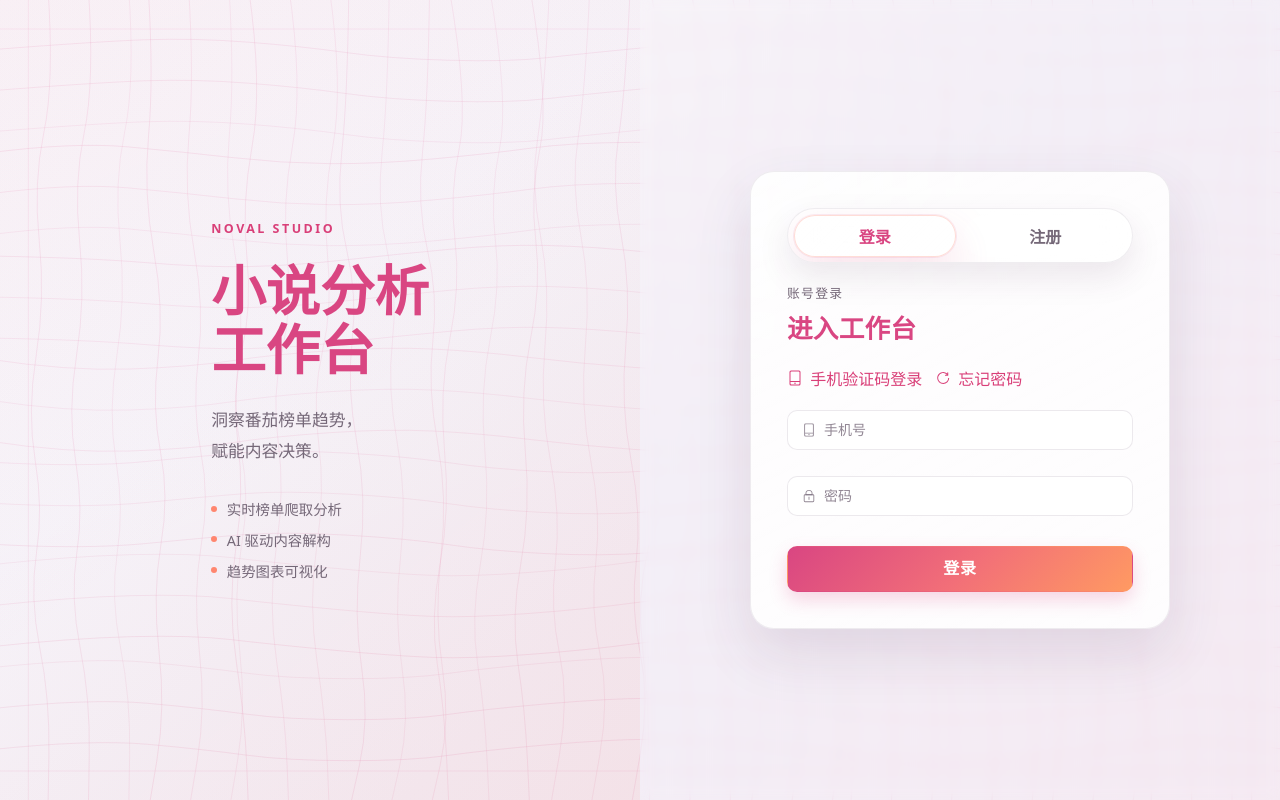
Test: LoginView › shows debug verify code when sms send response returns one
Click the button with test id "auth-mode-register" at (1045, 236), box 964,215 -> 1126,257
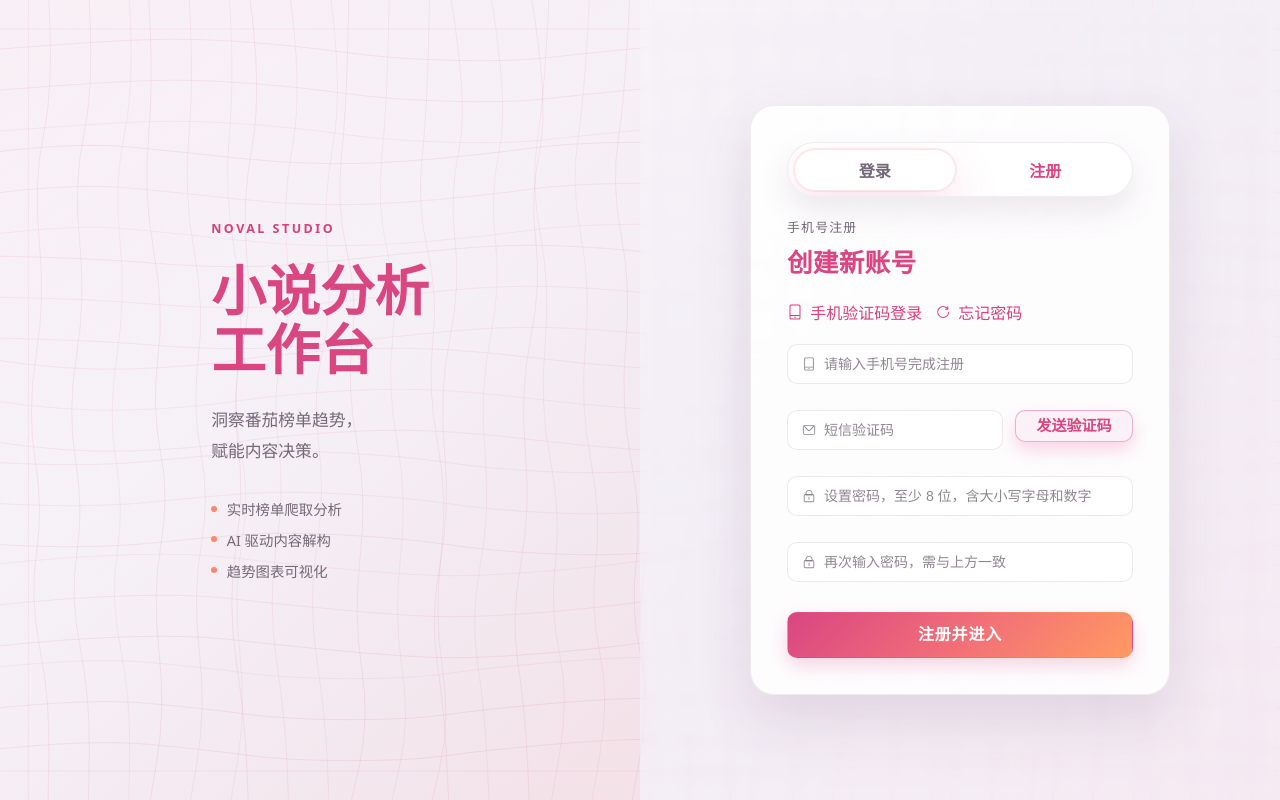
Type "13800138000" into the field with test id "login-phone" at (971, 364), box 824,345 -> 1118,383
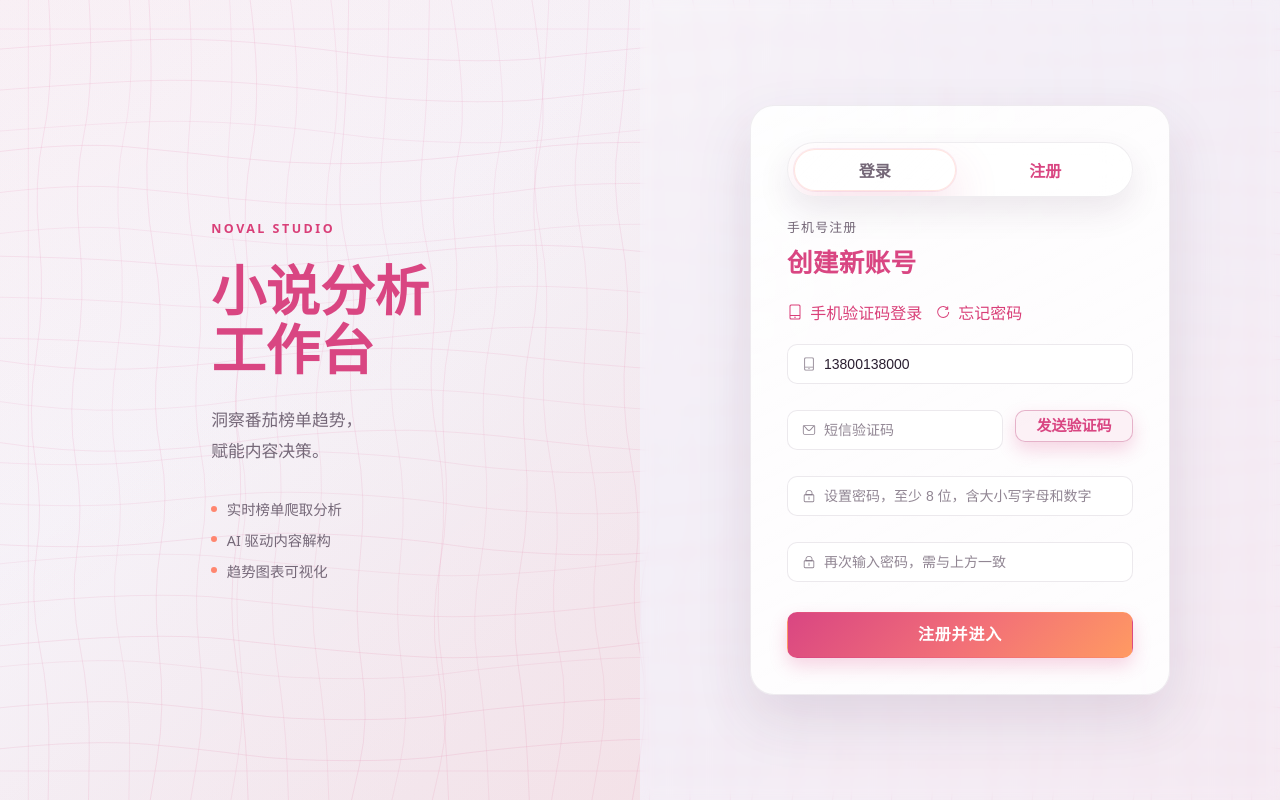
Click the button with test id "send-sms-code" at (1074, 426), box 1015,410 -> 1133,442
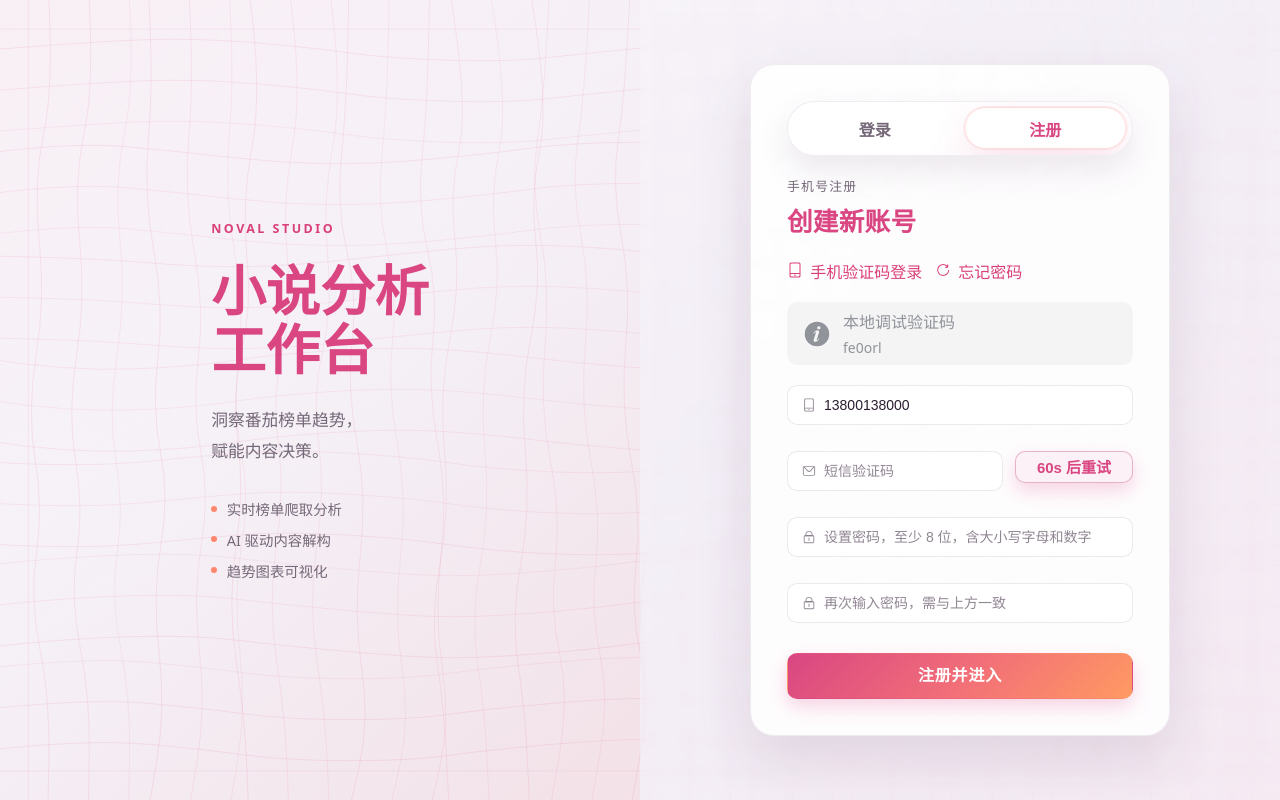
Expected: the text "本地调试验证码" is shown, 843,310 -> 955,334
Expected: the text "fe0orl" is shown, 843,338 -> 882,357
